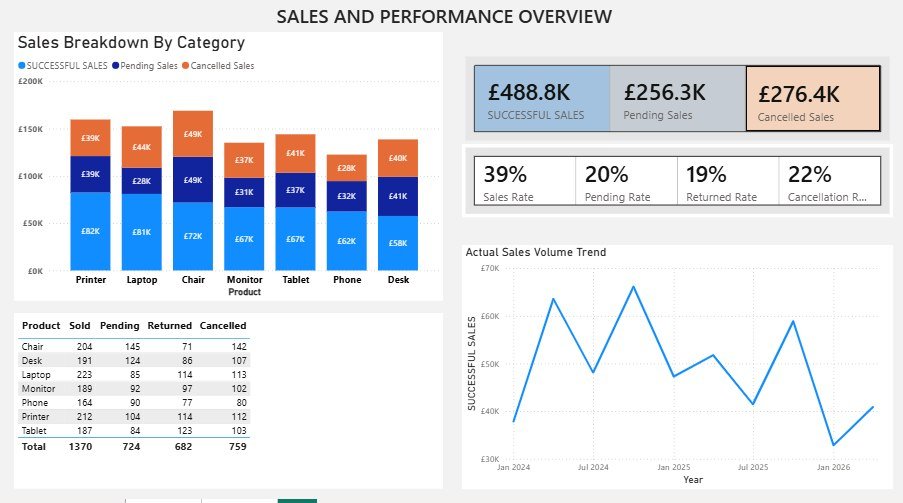

What the dashboard file says about the page in this screenshot:
{"tool":"powerbi","page":{"name":"Page 1","canvas":[1280,720],"ordinal":0},"visuals":[{"type":"columnChart","title":"Sales Breakdown By Category","fields":{"Category":["Sheet1.Product"],"Y":["Sheet1.SUCCESSFUL SALES","Sheet1.Pending Sales","Sheet1.Cancelled Sales"]},"box":[20.2,58.8,608.1,381.3],"z":0},{"type":"cardVisual","fields":{"Data":["Sheet1.SUCCESSFUL SALES","Sheet1.Pending Sales","Sheet1.Cancelled Sales"]},"box":[655.1,87.3,611.4,129.3],"z":1000},{"type":"cardVisual","fields":{"Data":["Sheet1.Actual Sales Rate","Sheet1.Pending Rate","Sheet1.Returned Rate","Sheet1.Cancellation Rate"]},"box":[655.1,216.7,611.4,104.1],"z":2000},{"type":"tableEx","fields":{"Values":["Sheet1.Product","Sheet1.QTY SOLD1","Sheet1.Pending","Sheet1.Returned","Sheet1.QTY Cancelled"]},"box":[20.2,456.9,608.1,248.6],"z":3000},{"type":"textbox","box":[387.4,11.5,537.1,47.5],"z":4000},{"type":"lineChart","title":"Actual Sales Volume Trend","fields":{"Category":["Sheet1.Date.Variation.Date Hierarchy.Year","Sheet1.Date.Variation.Date Hierarchy.Quarter"],"Y":["Sheet1.SUCCESSFUL SALES"]},"box":[655.1,359.5,611.4,346],"z":5000}]}

Visuals, with their boxes in screenshot pixels (x1, y1, x2, y2), scaled from the page's 1280x720 canvas onto the 903x503 screenshot:
"Sales Breakdown By Category" columnChart: select_region(14, 41, 443, 307)
cardVisual - Sheet1.SUCCESSFUL SALES x Sheet1.Pending Sales: select_region(462, 61, 893, 151)
cardVisual - Sheet1.Actual Sales Rate x Sheet1.Pending Rate: select_region(462, 151, 893, 224)
tableEx - Sheet1.Product x Sheet1.QTY SOLD1: select_region(14, 319, 443, 493)
textbox: select_region(273, 8, 652, 41)
"Actual Sales Volume Trend" lineChart: select_region(462, 251, 893, 493)
